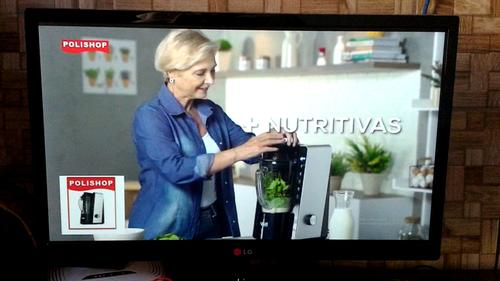Polishop #1: (57, 174, 125, 234)
